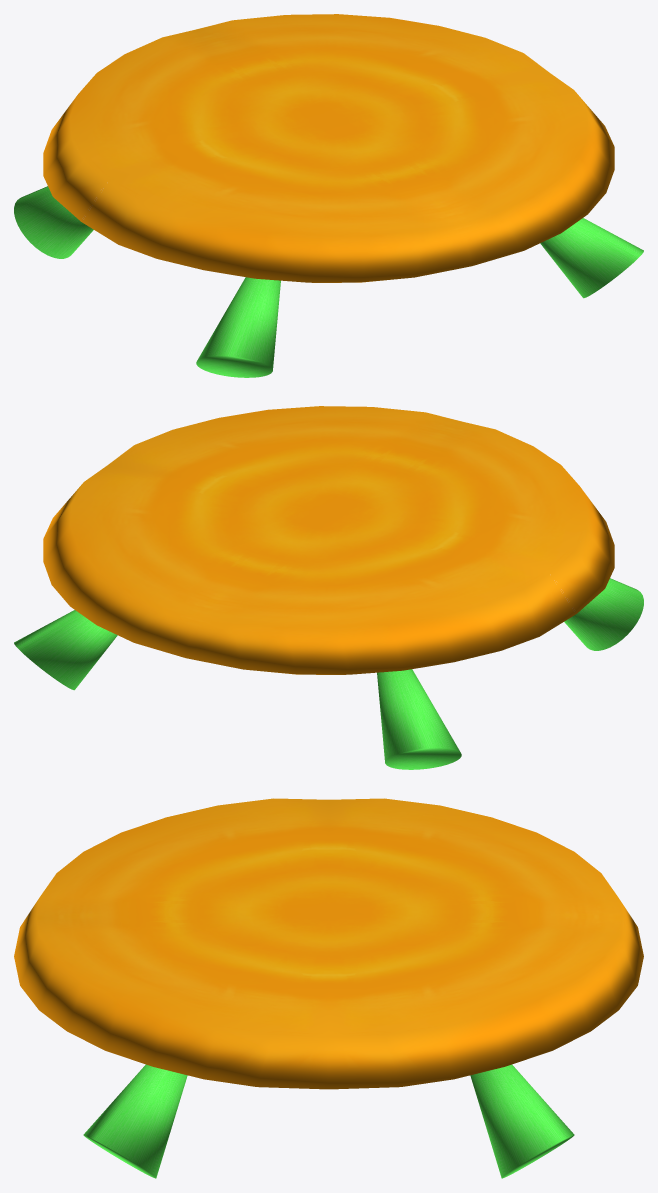
The model's file is table_Carrot.fbx.
3 views of the same model, one above another, from view 1: azimuth 30°, elevation 25°; view 2: azimuth 150°, elevation 25°; view 3: azimuth 270°, elevation 25° (orthographic). The views are drawn at different scales.
Visible parts, largest first — view 1: 円柱; view 2: 円柱; view 3: 円柱.
Part boxes in pixels (x1,y1,x2,y2): 円柱: (14,14,643,377); 円柱: (14,406,643,769); 円柱: (14,798,643,1178).
Bounding box in the file's own units: 40.46 × 11.94 × 40.49.
2 materials, 2 textured.
